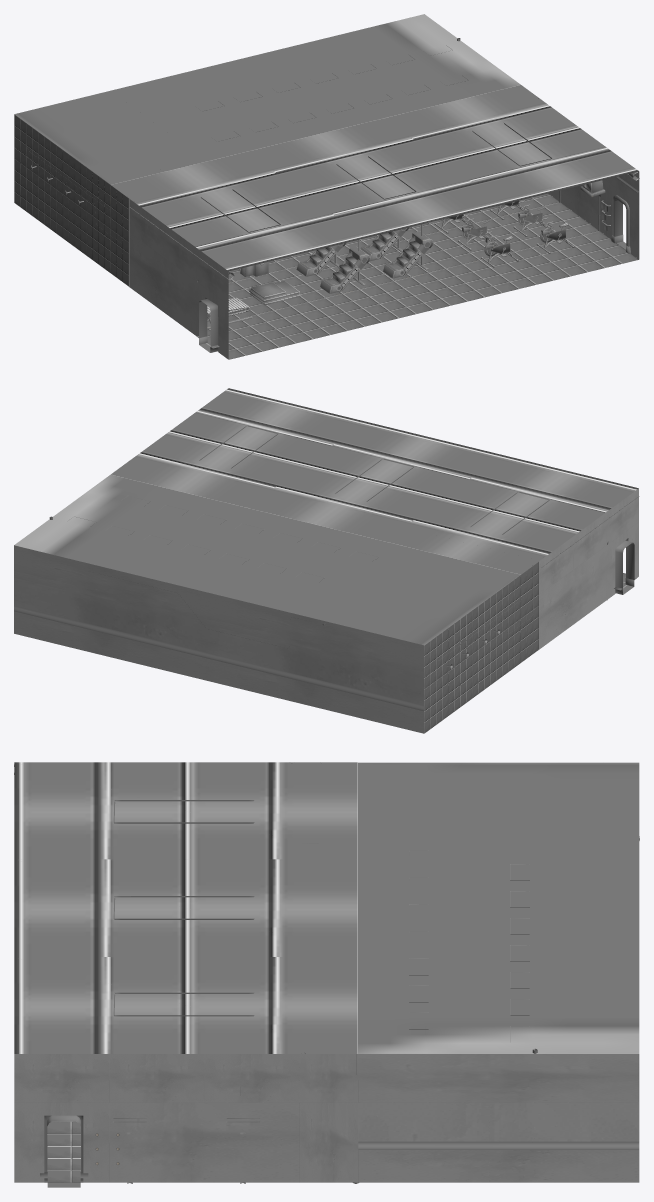
File: MSH_endurance_room_L3_R3_optimized.fbx
3 renders of one model, top to bottom at view 1: azimuth 30°, elevation 25°; view 2: azimuth 150°, elevation 25°; view 3: azimuth 270°, elevation 25°, orthographic. The views are drawn at different scales.
Visible parts, largest first — view 1: lightmap0, lightmap1, lightmap-1; view 2: lightmap0, lightmap1, lightmap-1; view 3: lightmap0, lightmap1.
Part boxes in pixels (bbox=[...]): lightmap0: bbox=[14, 14, 639, 359]; lightmap1: bbox=[31, 45, 610, 329]; lightmap-1: bbox=[199, 199, 626, 352]; lightmap0: bbox=[14, 388, 639, 733]; lightmap1: bbox=[67, 425, 608, 668]; lightmap-1: bbox=[615, 540, 634, 594]; lightmap0: bbox=[14, 762, 639, 1183]; lightmap1: bbox=[95, 800, 529, 1165].
Size of the model in its own units: 30.91 by 6.38 by 27.14.
